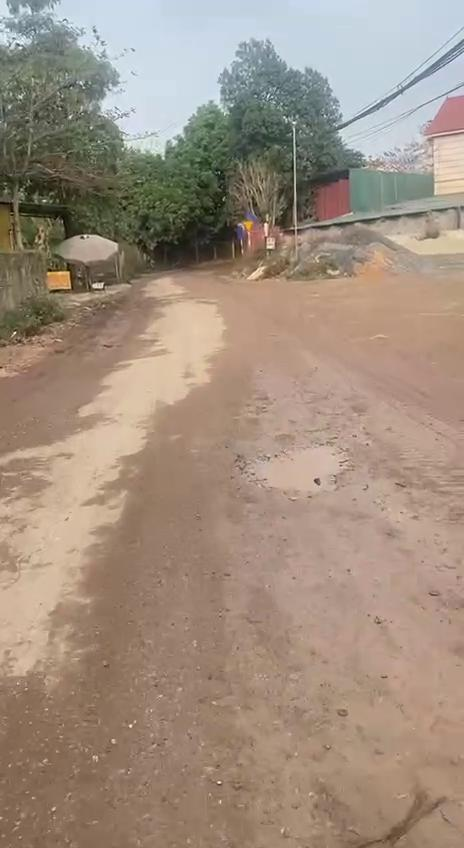pothole: (236, 440, 350, 497)
